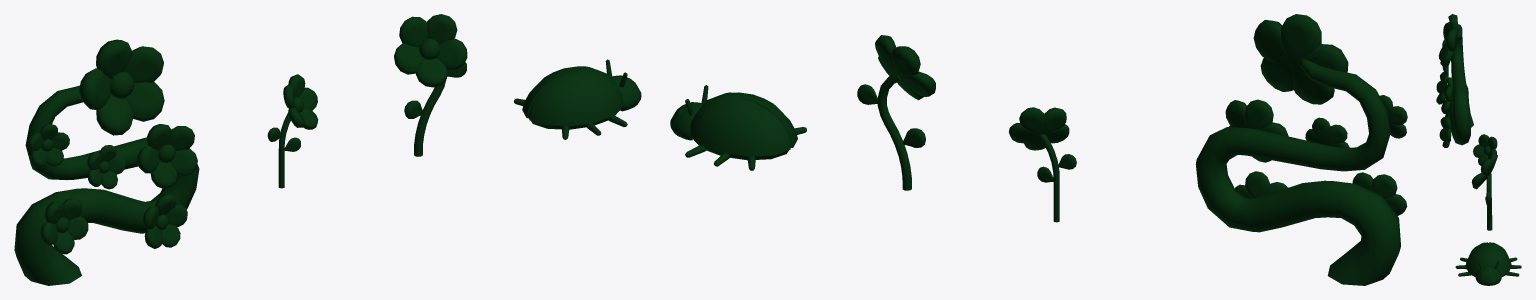
The model's file is Foreground assets from painter.fbx.
3 renders of one model, left to right at view 1: azimuth 30°, elevation 25°; view 2: azimuth 150°, elevation 25°; view 3: azimuth 270°, elevation 25°, orthographic. The views are drawn at different scales.
Visible parts, largest first — view 1: Vine_along_side, Bug, Biiger_flower, Smaller_flower; view 2: Vine_along_side, Bug, Biiger_flower, Smaller_flower; view 3: Vine_along_side, Bug, Biiger_flower, Smaller_flower.
Boxes of the visible parts, <box> form: Vine_along_side: <box>14,39,199,285</box>; Bug: <box>514,59,641,139</box>; Biiger_flower: <box>394,14,467,156</box>; Smaller_flower: <box>267,74,318,188</box>; Vine_along_side: <box>1195,14,1407,285</box>; Bug: <box>670,85,806,170</box>; Biiger_flower: <box>857,35,935,190</box>; Smaller_flower: <box>1009,107,1076,222</box>; Vine_along_side: <box>1436,14,1473,147</box>; Bug: <box>1455,242,1521,285</box>; Biiger_flower: <box>1471,153,1497,230</box>; Smaller_flower: <box>1473,134,1497,165</box>.
Size of the model in its own units: 1367 by 451 by 279.
